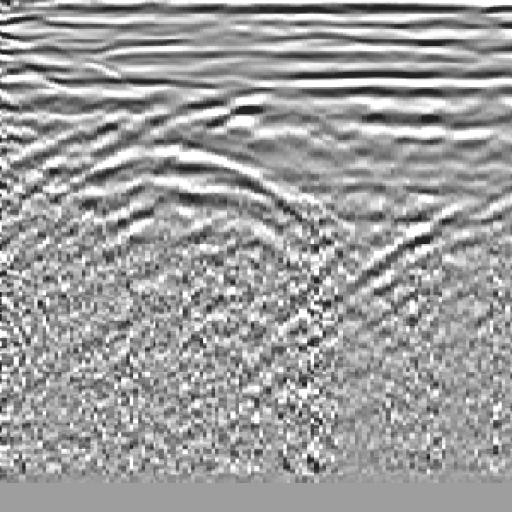non-metallic: (139, 63, 388, 250), (49, 118, 322, 263)
